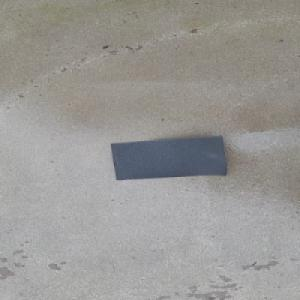PaintChip: (110, 135, 228, 180)
